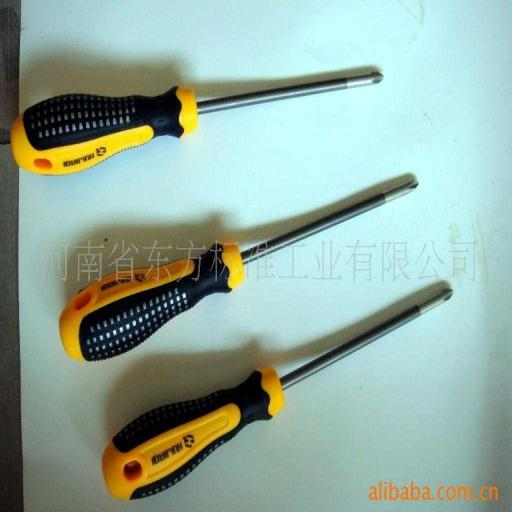screwdriver: (100, 287, 454, 503), (58, 178, 420, 364), (10, 72, 384, 176)
